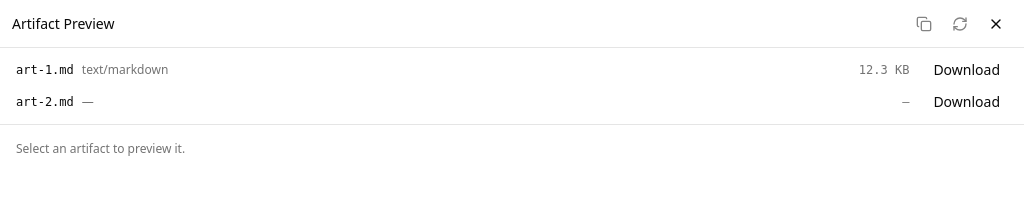
it: ArtifactPreviewPanel › offers download-only for a binary (null-mime) artifact
art-2 has mime:null → binary branch, no inline preview, no presign needed.
Click the button with test id "artifact-select" showing "art-2.md — —": x=45, y=102 [8, 88, 917, 116]
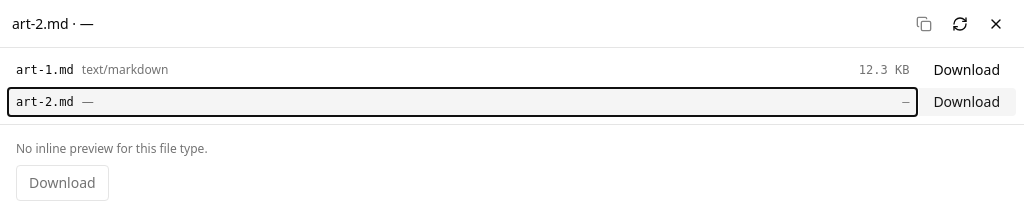
Expected: the element with test id "artifact-preview-binary" is shown, [16, 140, 208, 201]
